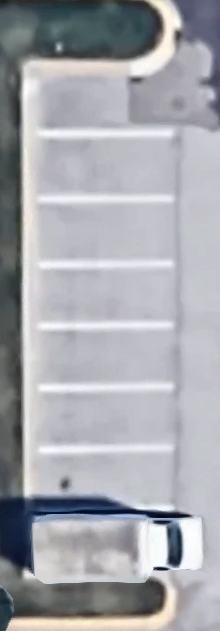Occupied: (38, 508, 176, 574)
Vacant: (36, 134, 177, 200), (35, 200, 177, 264), (36, 325, 177, 389), (37, 71, 177, 133), (36, 264, 177, 325), (37, 388, 176, 449), (38, 450, 176, 508)
